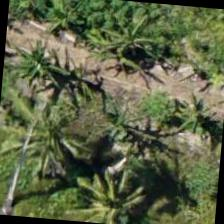Kelapa_Sawit: (0, 83, 86, 181), (69, 155, 165, 223)
